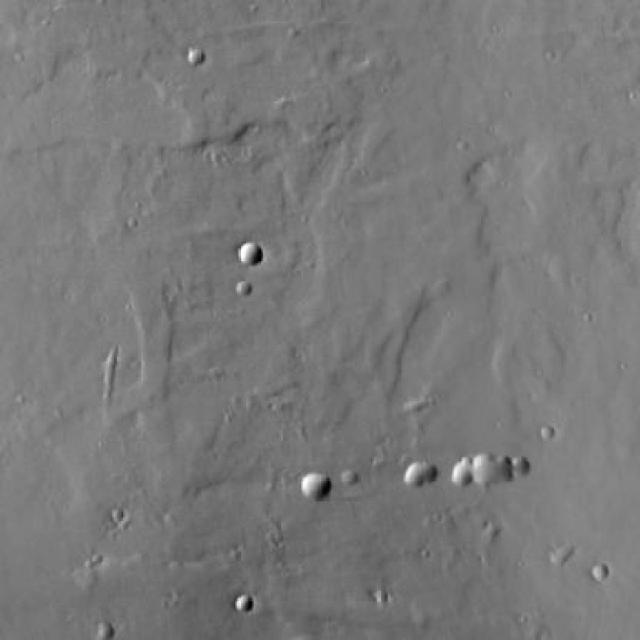crater: (303, 474, 329, 500), (237, 243, 260, 266), (185, 48, 203, 67), (236, 595, 255, 613), (594, 564, 611, 581), (97, 626, 115, 640), (234, 281, 249, 297)
